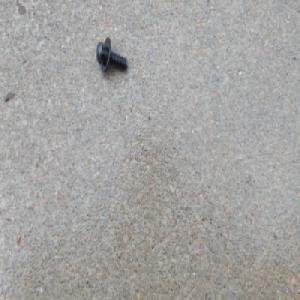BoltWasher: (96, 34, 129, 73)
